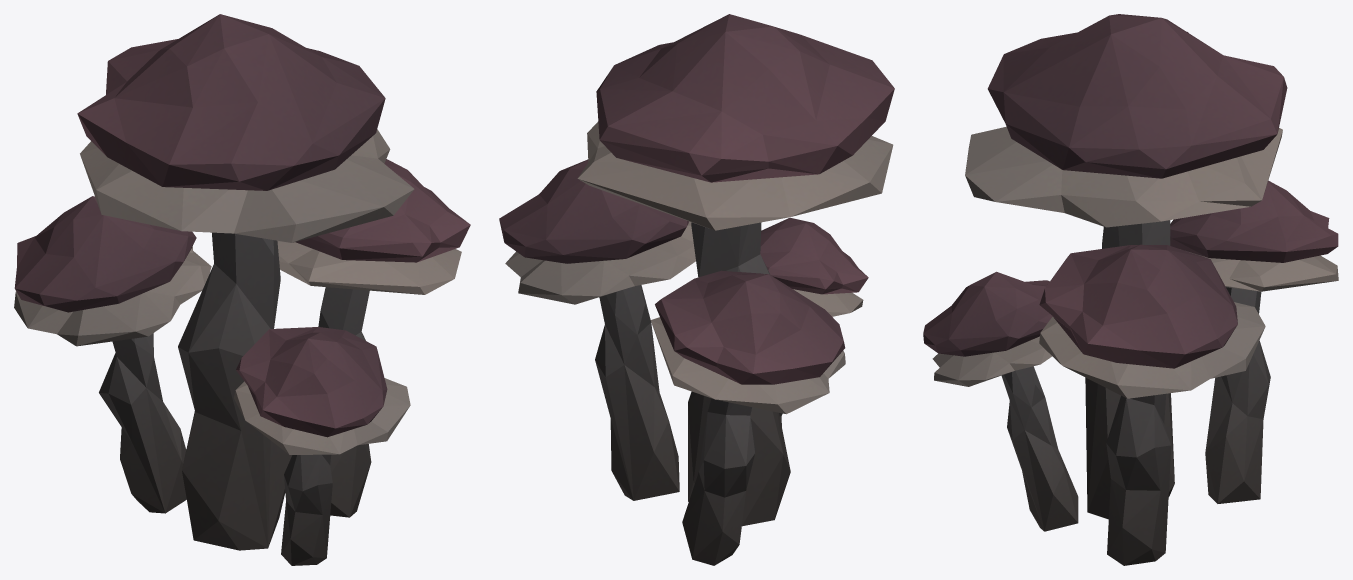
The model's file is Mush_2B.fbx.
The picture shows the model from 3 angles, left to right: view 1: azimuth 30°, elevation 25°; view 2: azimuth 150°, elevation 25°; view 3: azimuth 270°, elevation 25°; orthographic projection. The views are drawn at different scales.
Visible parts, largest first — view 1: polySurface1318; view 2: polySurface1318; view 3: polySurface1318.
Boxes of the visible parts, x1=… form: polySurface1318: x1=14, y1=14, x2=470, y2=565; polySurface1318: x1=499, y1=14, x2=894, y2=565; polySurface1318: x1=923, y1=14, x2=1338, y2=565.
Bounding box in the file's own units: 1.65 × 2.12 × 1.62.
